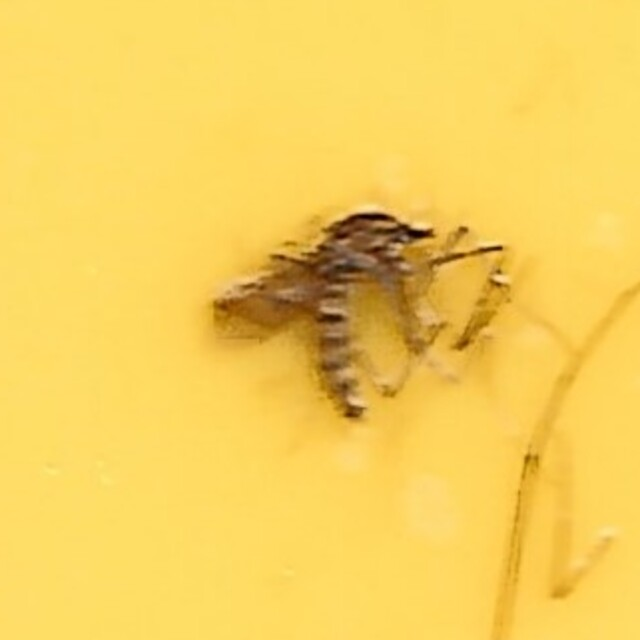Nematocera: (199, 201, 441, 439)
